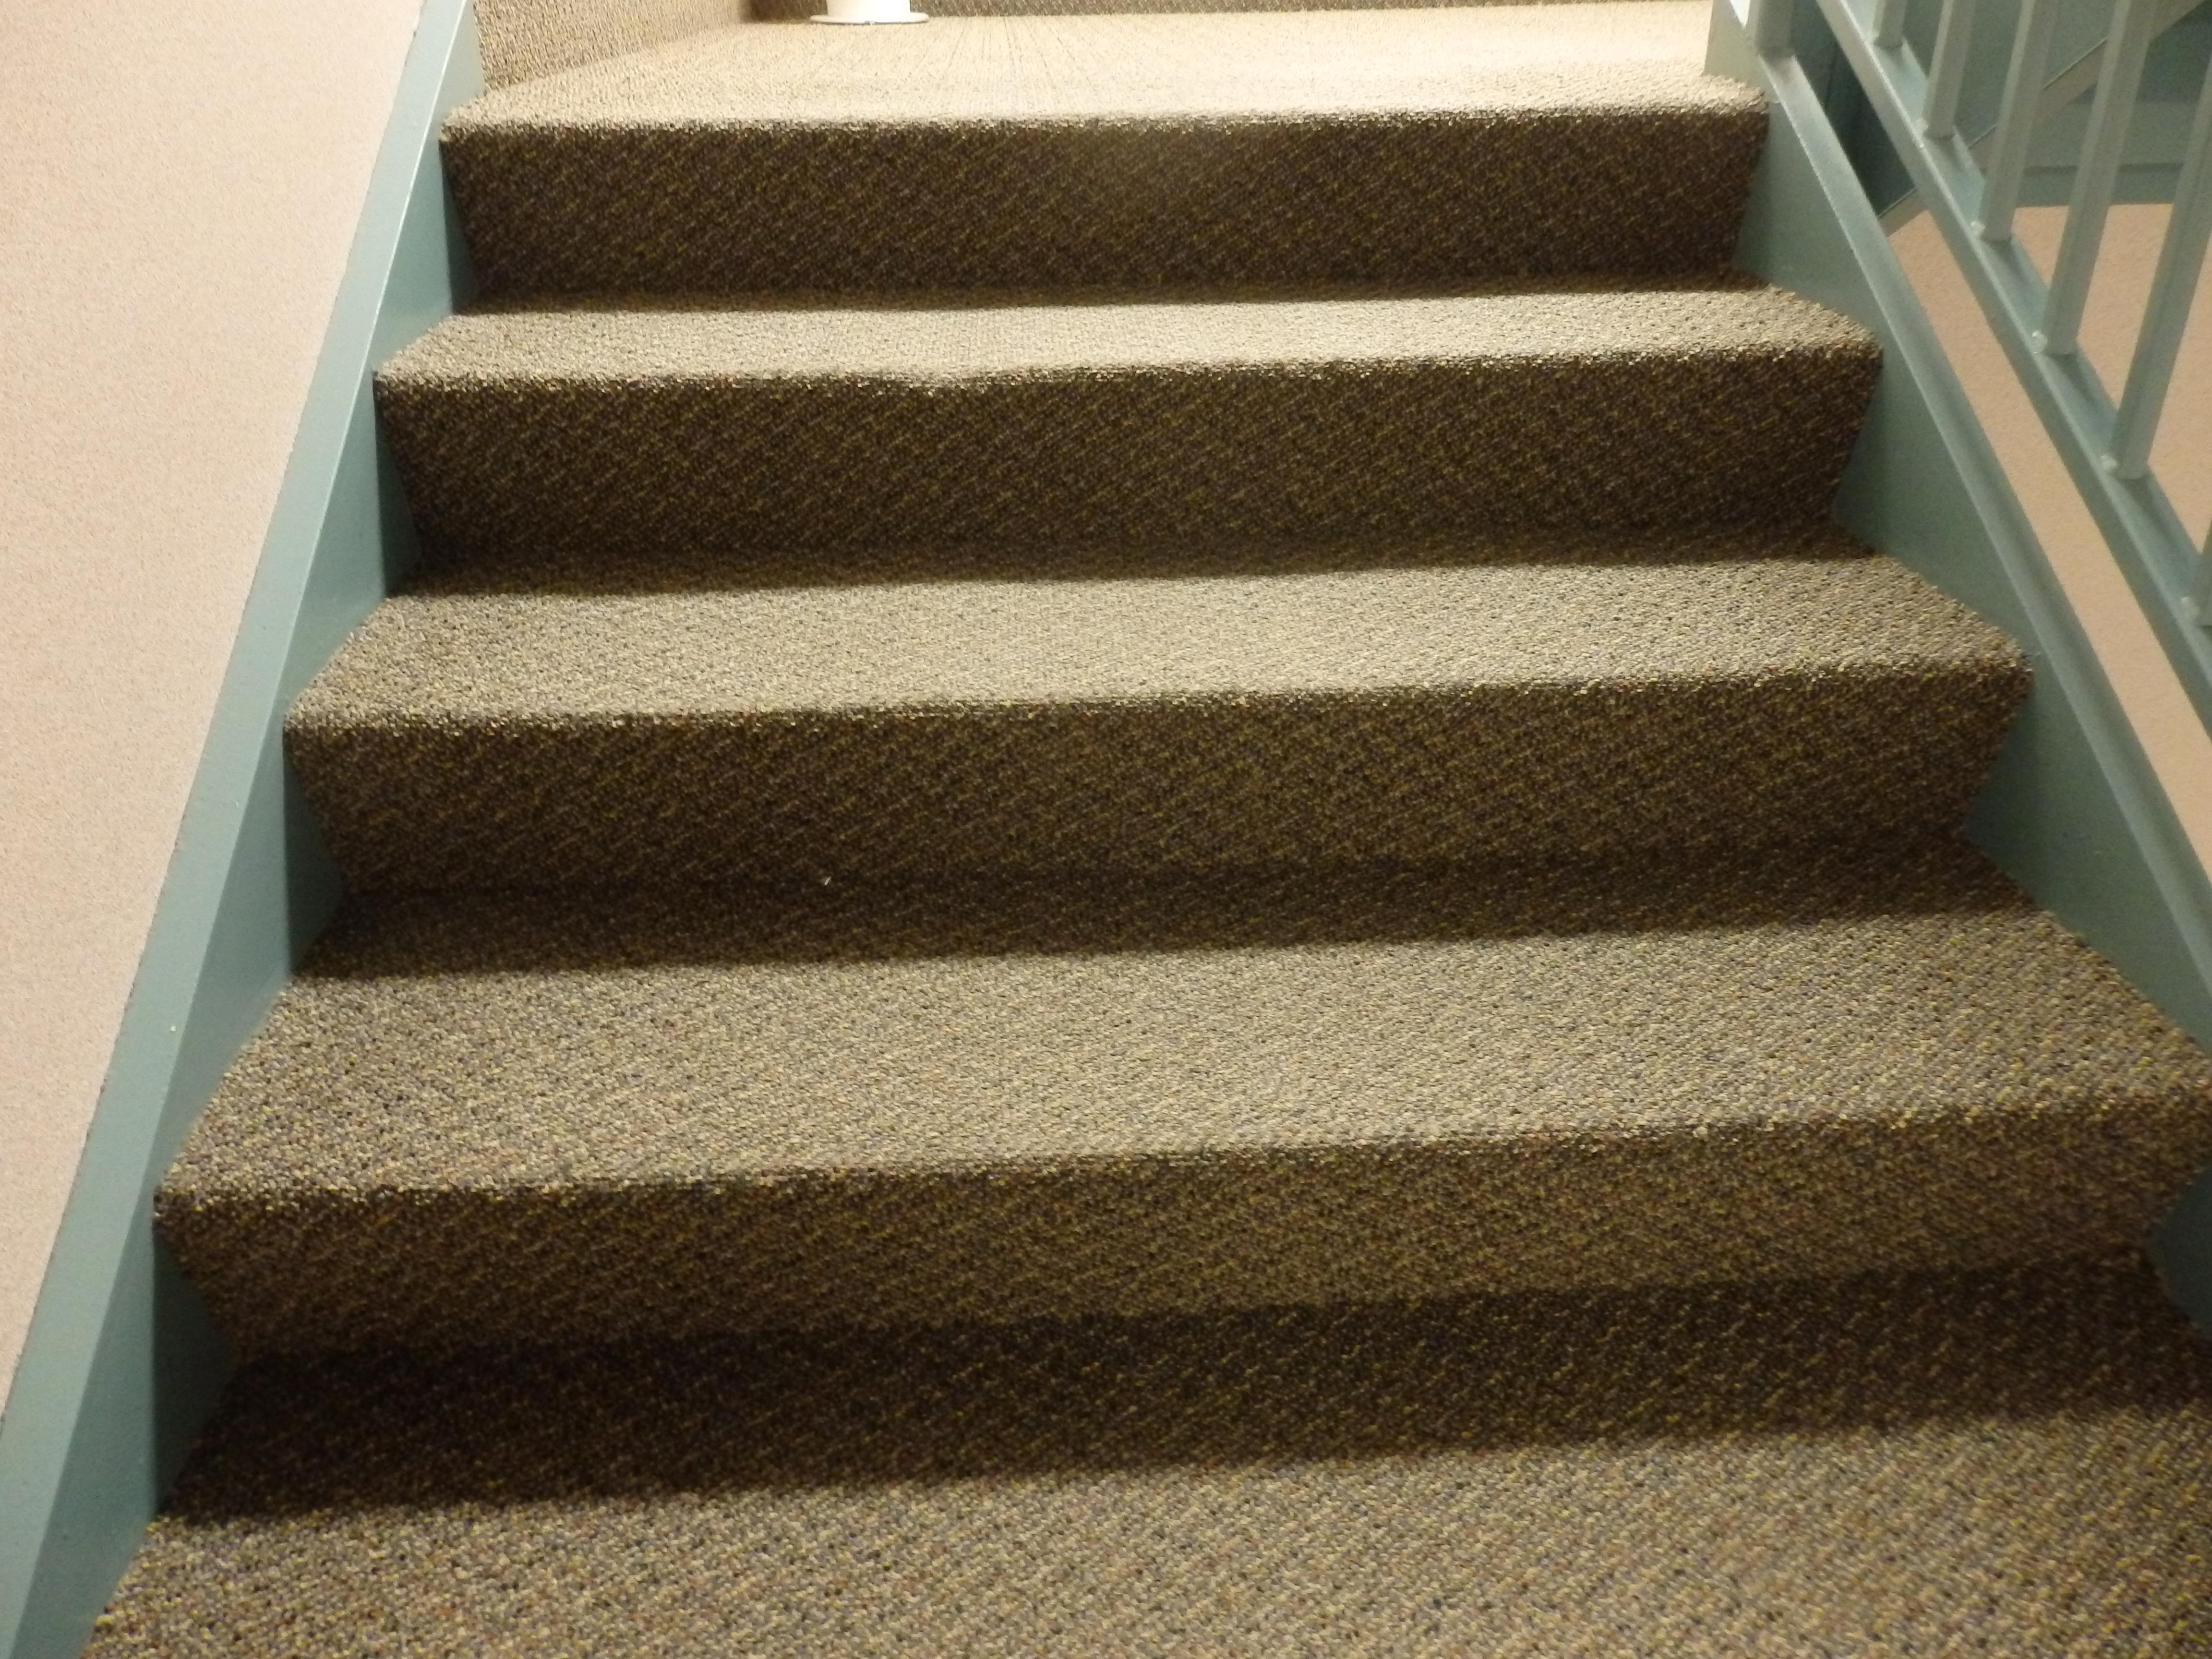stairs_up: (326, 108, 2149, 1448)
